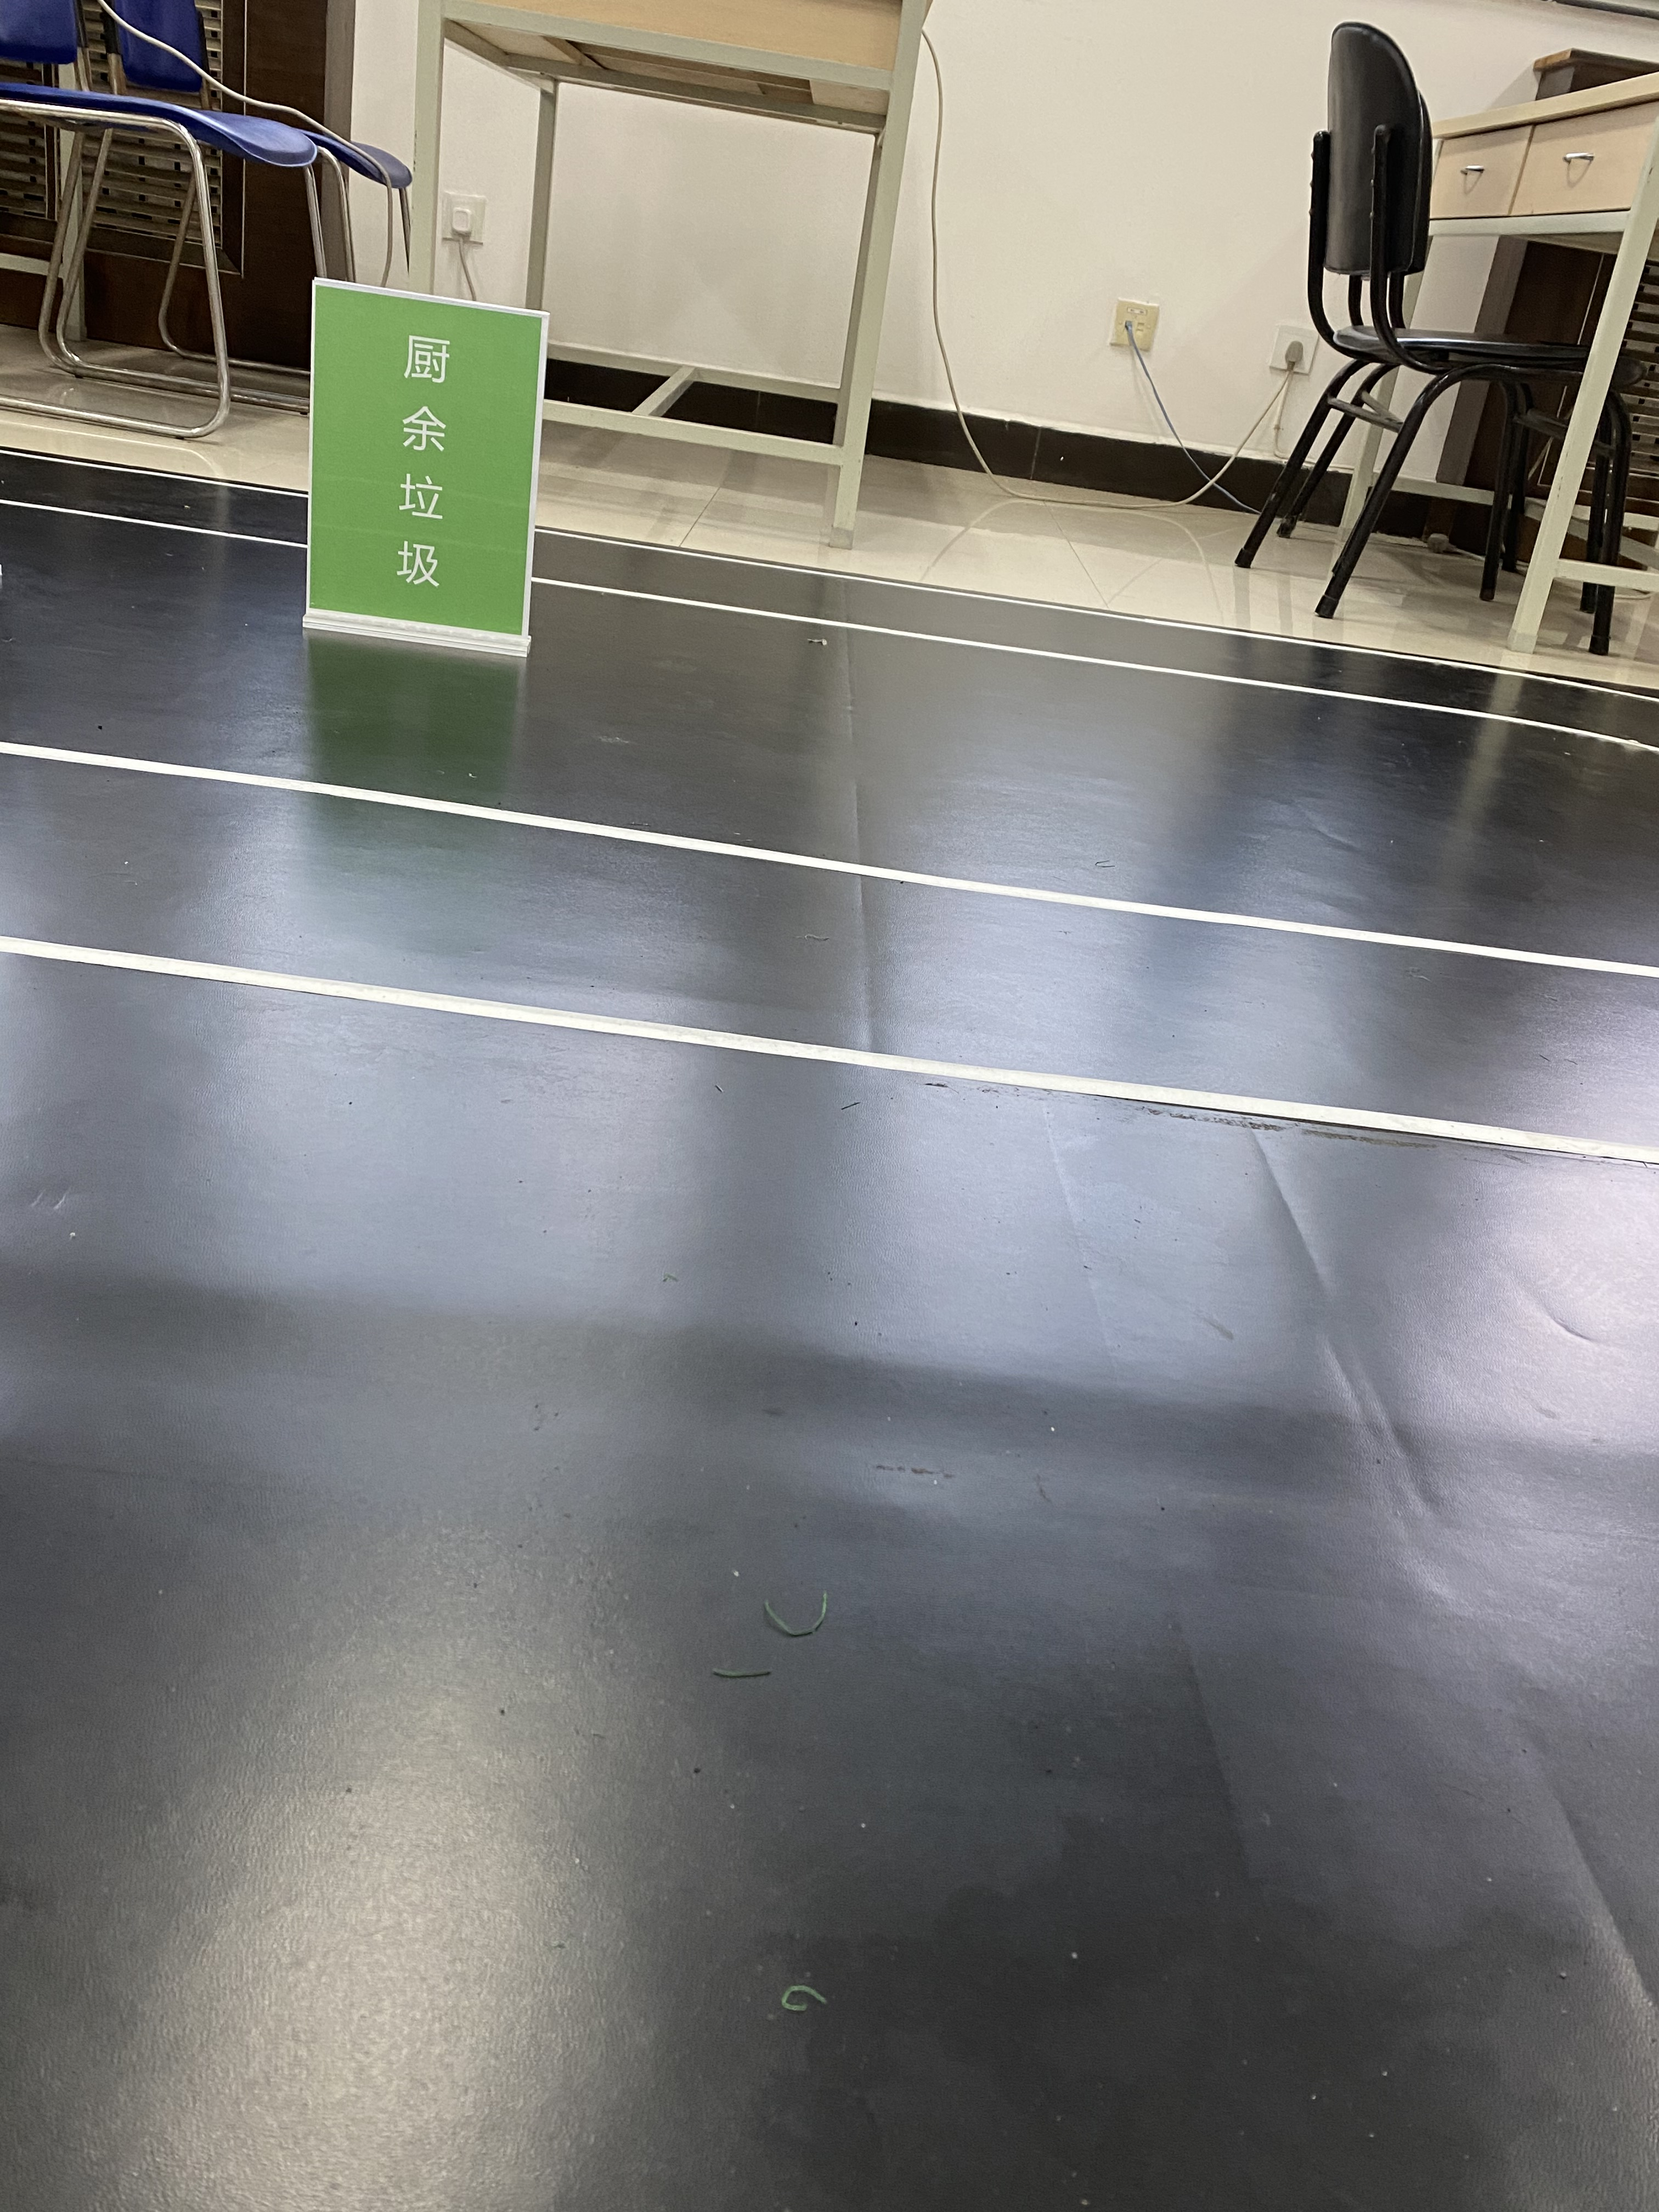green: (322, 303, 519, 606)
